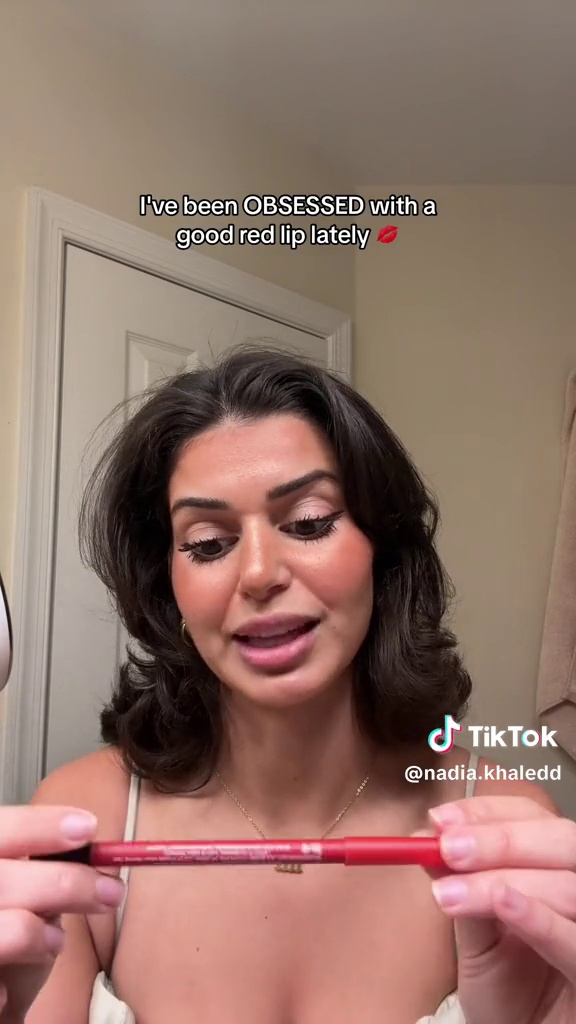train' :'yolo_data/train/images',: (25, 819, 459, 884)
